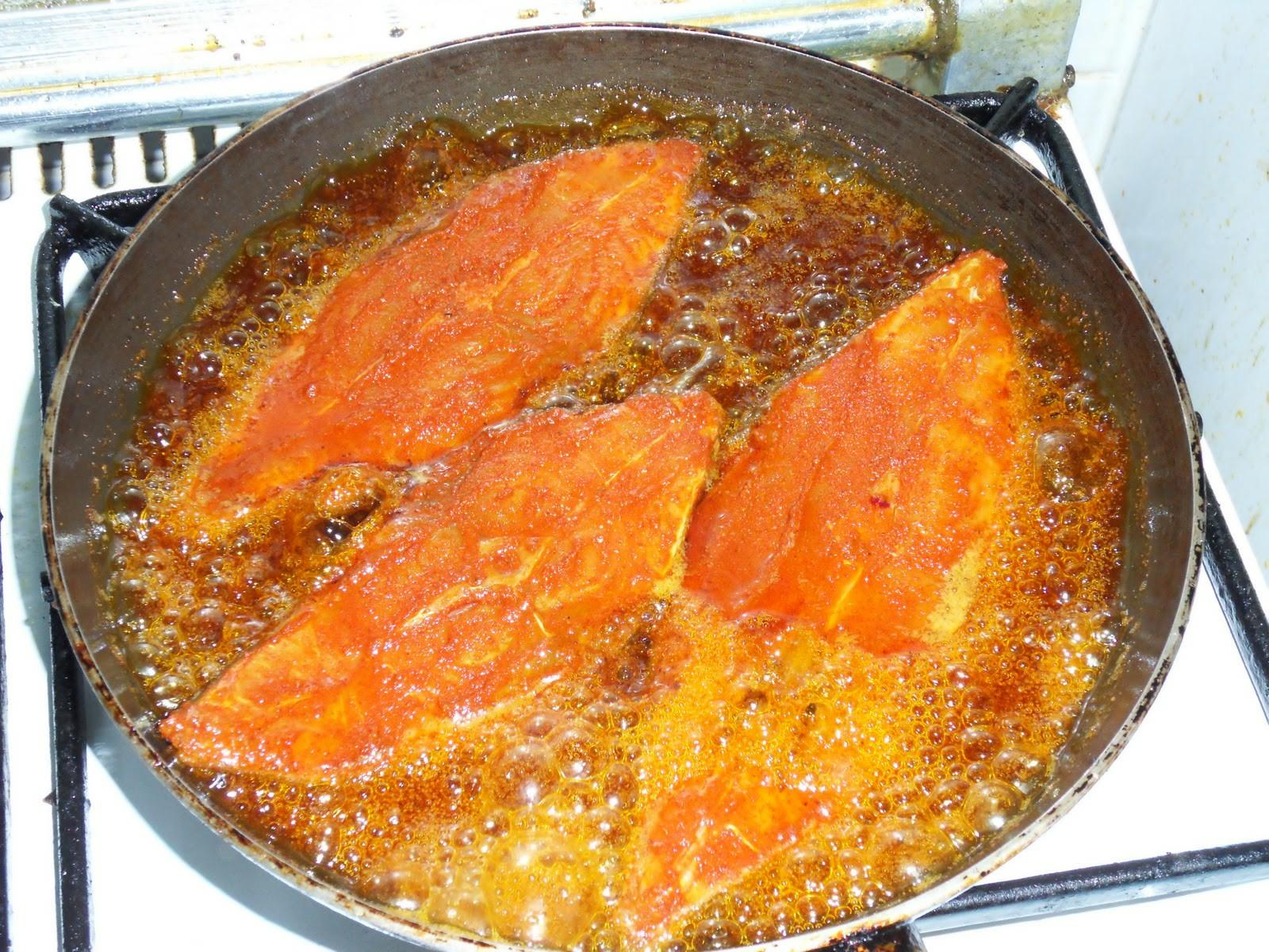FishCurry: (130, 104, 1132, 952)
